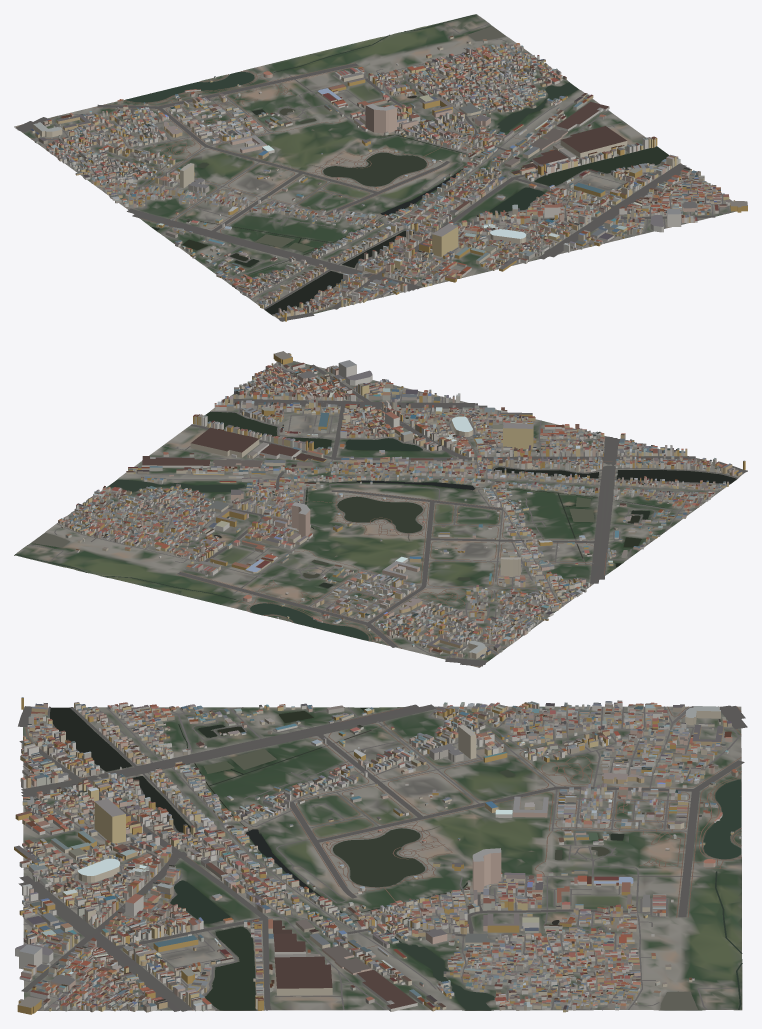
3 renders of one model, top to bottom at view 1: azimuth 30°, elevation 25°; view 2: azimuth 150°, elevation 25°; view 3: azimuth 270°, elevation 25°, orthographic. The views are drawn at different scales.
Visible parts, largest first — view 1: buildings, ground, roads, water; view 2: buildings, ground, roads, water; view 3: buildings, ground, roads, water.
Boxes of the visible parts, box(x1,y1,x2,y2) form: buildings: box(30, 36, 747, 321); ground: box(14, 14, 736, 321); roads: box(15, 23, 731, 321); water: box(125, 14, 668, 314); buildings: box(58, 351, 745, 659); ground: box(14, 361, 747, 667); roads: box(27, 361, 747, 666); water: box(15, 412, 736, 640); buildings: box(14, 697, 741, 1014); ground: box(23, 706, 742, 1010); roads: box(18, 704, 747, 1011); water: box(50, 707, 742, 1010).
Bounding box in the file's own units: 1429 × 70.71 × 1432.
